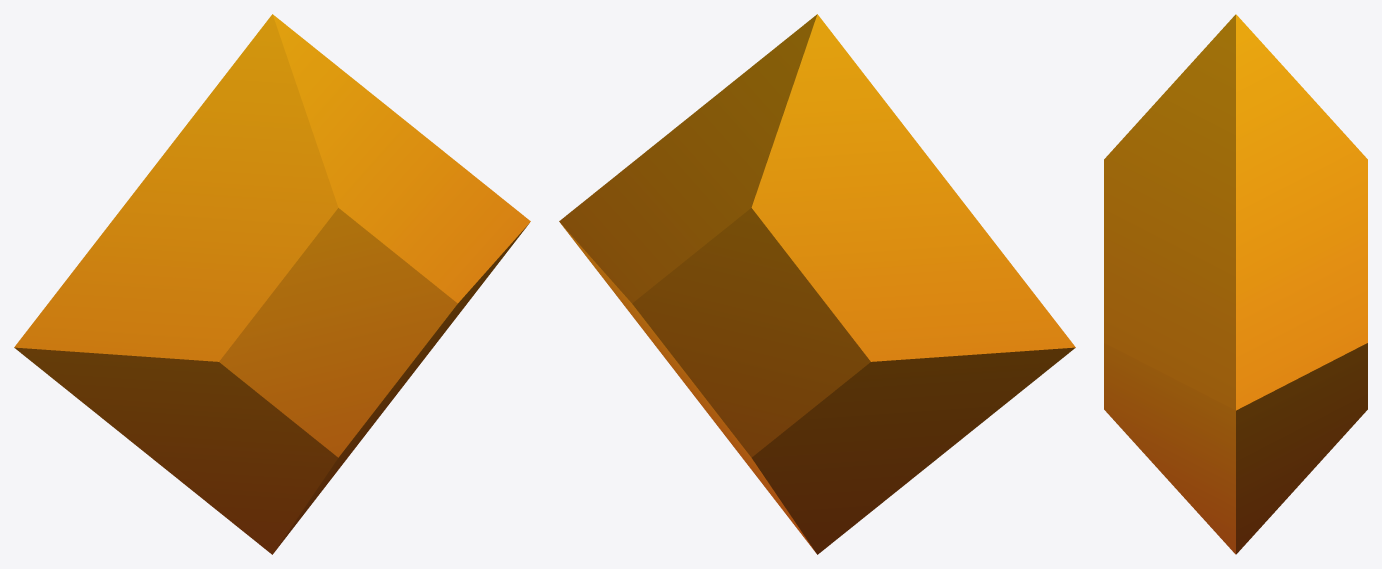
File: Gem2.fbx
3 views of the same model, side by side, from view 1: azimuth 30°, elevation 25°; view 2: azimuth 150°, elevation 25°; view 3: azimuth 270°, elevation 25° (orthographic).
Parts seen in each view (by area): view 1: Gem2; view 2: Gem2; view 3: Gem2.
Boxes of the visible parts, x1,y1,x2,y2 form: Gem2: [14, 14, 530, 554]; Gem2: [559, 14, 1075, 554]; Gem2: [1104, 14, 1367, 554].
Size of the model in its own units: 5.66 by 5.66 by 2.5.
